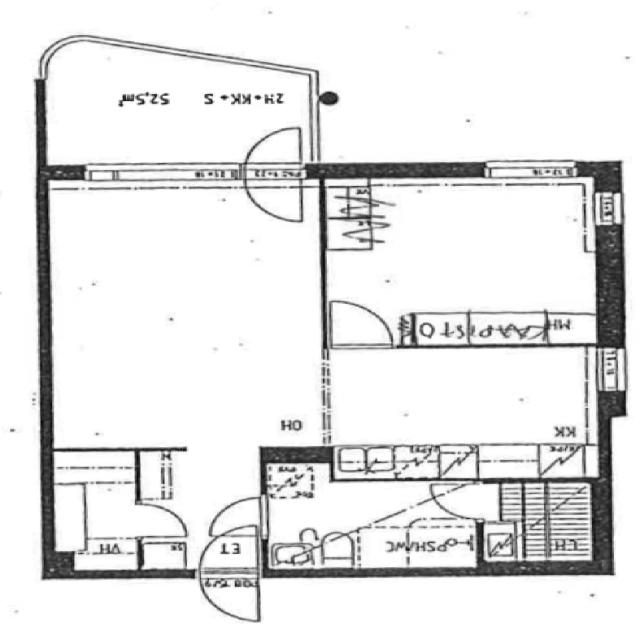door: (238, 120, 311, 226), (190, 524, 265, 622), (321, 296, 403, 355), (417, 478, 502, 526), (244, 176, 307, 227), (128, 498, 192, 542), (210, 494, 268, 534)
window: (61, 157, 244, 199), (474, 155, 581, 187), (586, 340, 630, 399)
zone: (49, 186, 323, 453), (324, 174, 613, 321), (324, 342, 606, 481), (262, 476, 496, 572), (45, 448, 156, 575), (475, 478, 600, 569), (412, 306, 586, 348)
